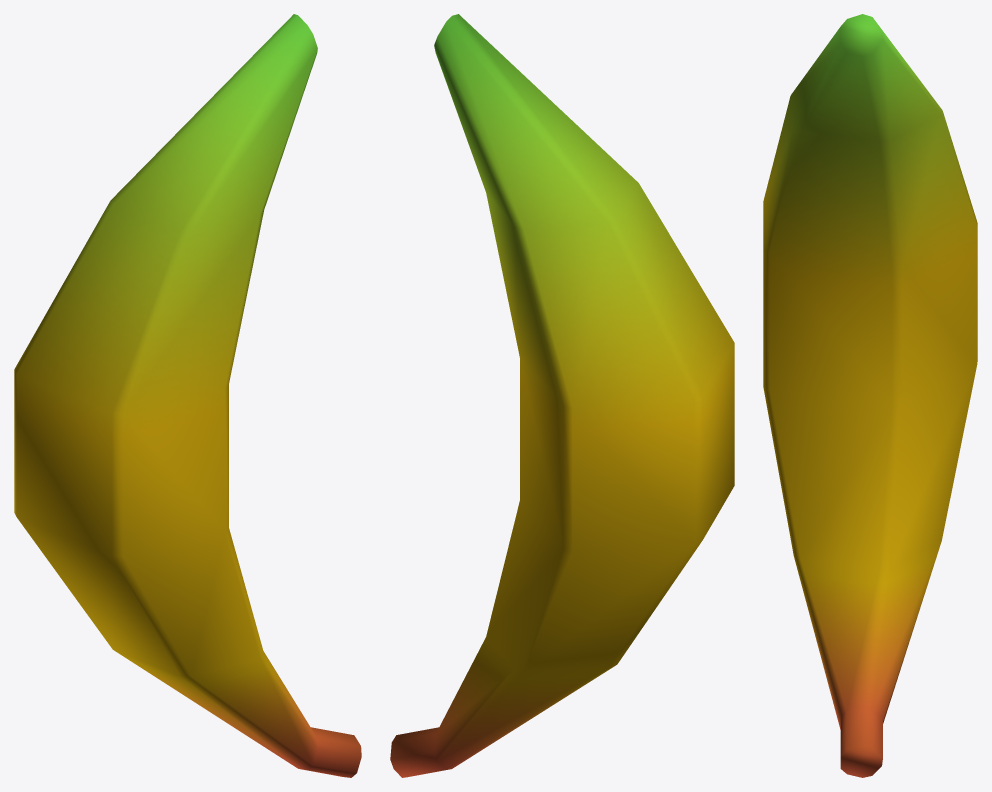
The model's file is banana_mesh.fbx.
3 renders of one model, left to right at view 1: azimuth 30°, elevation 25°; view 2: azimuth 150°, elevation 25°; view 3: azimuth 270°, elevation 25°, orthographic. The views are drawn at different scales.
Visible parts, largest first — view 1: Cylinder; view 2: Cylinder; view 3: Cylinder.
Boxes of the visible parts, x1,y1,x2,y2 form: Cylinder: [14, 14, 361, 777]; Cylinder: [390, 14, 734, 777]; Cylinder: [763, 14, 977, 777].
Bounding box in the file's own units: 297 × 679 × 178.
Materials: 1 (1 with a texture image).
